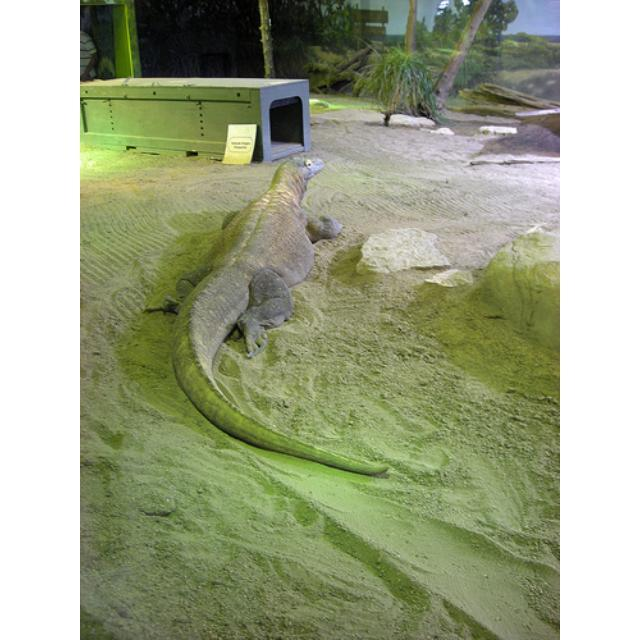KomodoDragon: (163, 149, 393, 481)
